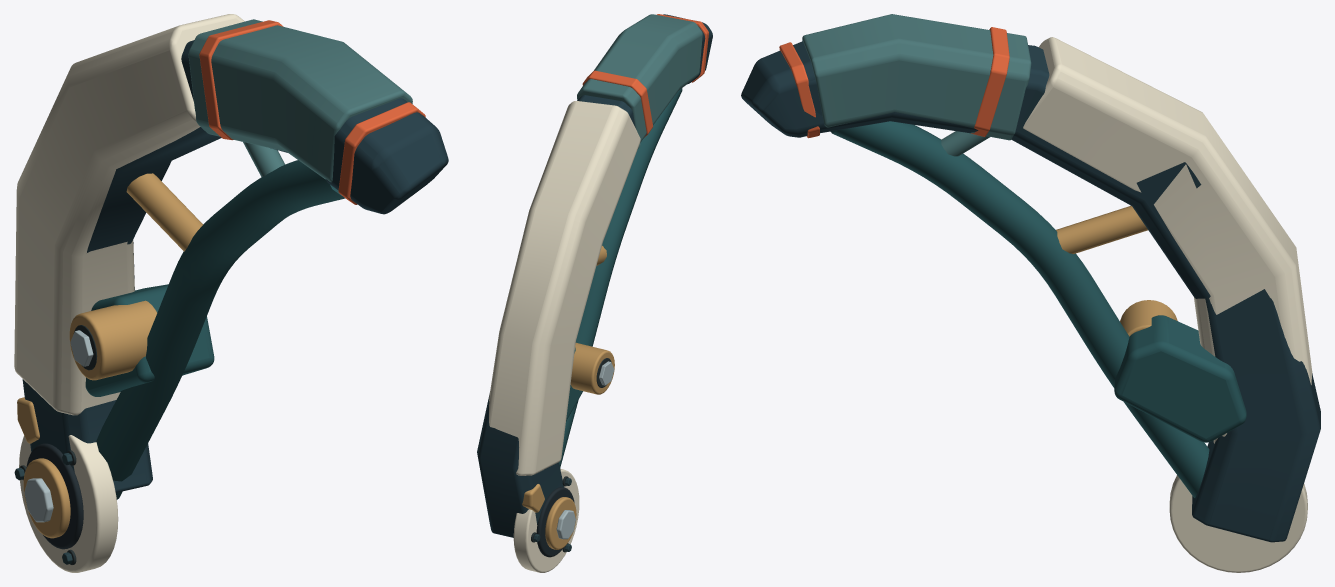
File: SM_Mk2_GuardArm_L.fbx
3 renders of one model, left to right at view 1: azimuth 30°, elevation 25°; view 2: azimuth 150°, elevation 25°; view 3: azimuth 270°, elevation 25°, orthographic. The views are drawn at different scales.
Parts seen in each view (by area): view 1: SM_Mk2_GuardArm_L; view 2: SM_Mk2_GuardArm_L; view 3: SM_Mk2_GuardArm_L.
Boxes of the visible parts, x1,y1,x2,y2 form: SM_Mk2_GuardArm_L: [14, 14, 448, 572]; SM_Mk2_GuardArm_L: [477, 14, 712, 572]; SM_Mk2_GuardArm_L: [741, 14, 1320, 572].
Size of the model in its own units: 16.29 by 64.57 by 69.11.
